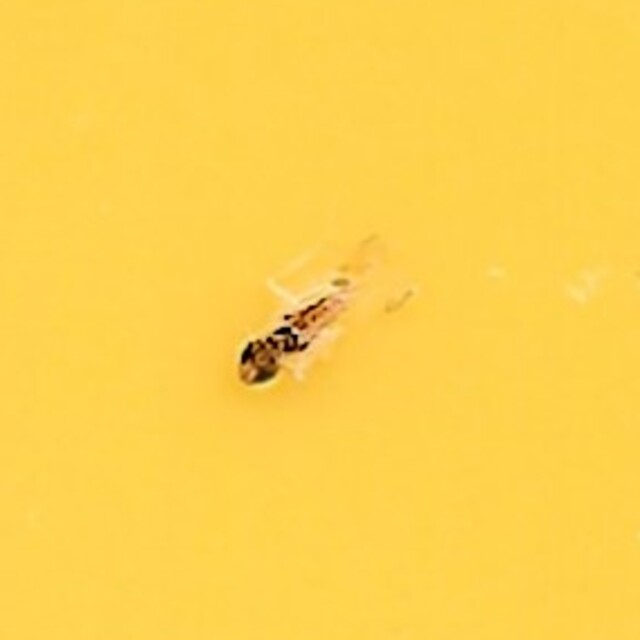Hemiptera: (224, 242, 416, 398)
